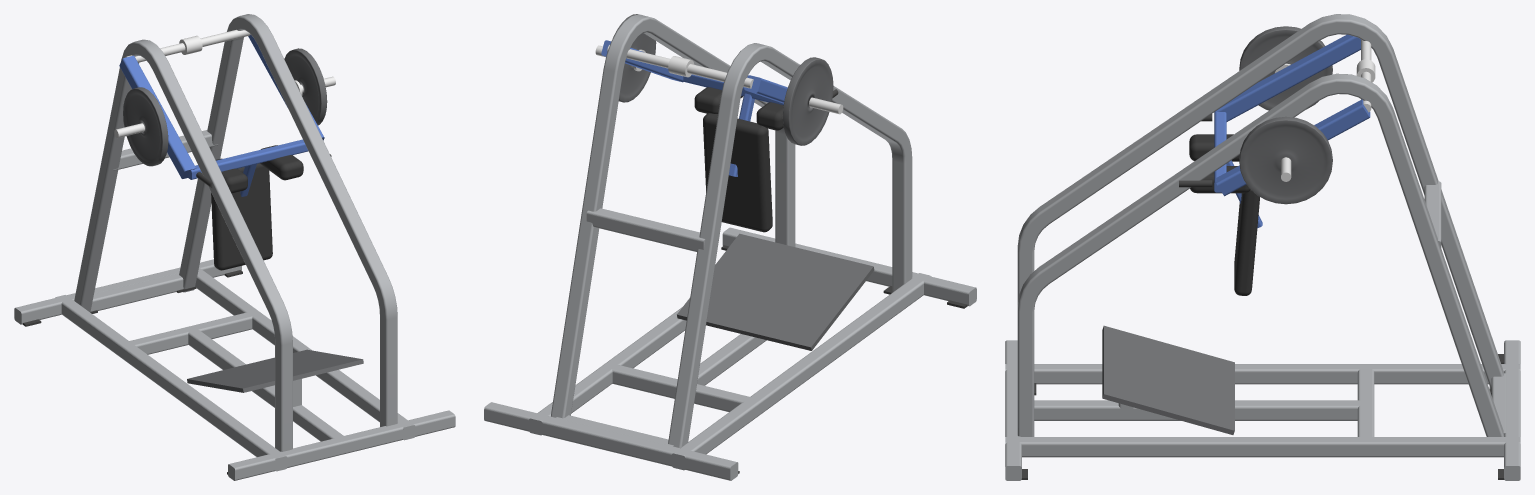
3 renders of one model, left to right at view 1: azimuth 30°, elevation 25°; view 2: azimuth 150°, elevation 25°; view 3: azimuth 270°, elevation 25°, orthographic. The views are drawn at different scales.
Parts seen in each view (by area): view 1: base, side_frame_left_tube, side_frame_right_tube, lever, frame, backrest_pad, foot_plate, lever_bar, shoulder_pad (×2), lever_axle, rear_crossbar; view 2: base, side_frame_left_tube, foot_plate, side_frame_right_tube, lever, backrest_pad, frame, rear_crossbar, lever_bar (×2), shoulder_pad (×2), lever_axle; view 3: base, side_frame_right_tube, side_frame_left_tube, foot_plate, lever, lever_bar (×2), backrest_pad, frame, rear_crossbar, shoulder_pad.
Boxes of the visible parts, box(x1,y1,x2,y2) form: base: box(14, 259, 455, 480); side_frame_left_tube: box(74, 39, 292, 451); side_frame_right_tube: box(179, 14, 397, 426); lever: box(123, 48, 327, 196); frame: box(90, 273, 255, 354); backrest_pad: box(211, 163, 272, 270); foot_plate: box(187, 349, 363, 392); lever_bar: box(119, 55, 196, 178); shoulder_pad (×2): box(215, 145, 303, 193); lever_axle: box(125, 29, 250, 62); rear_crossbar: box(113, 130, 217, 170); base: box(484, 227, 976, 480); side_frame_left_tube: box(668, 43, 912, 447); foot_plate: box(677, 233, 874, 350); side_frame_right_tube: box(551, 14, 795, 418); lever: box(612, 14, 833, 176); backrest_pad: box(703, 113, 772, 232); frame: box(556, 364, 754, 446); rear_crossbar: box(586, 208, 705, 251); lever_bar (×2): box(601, 40, 787, 103); shoulder_pad (×2): box(694, 87, 783, 130); lever_axle: box(607, 45, 753, 88); base: box(1005, 340, 1520, 480); side_frame_right_tube: box(1017, 73, 1504, 436); side_frame_left_tube: box(1017, 14, 1503, 388); foot_plate: box(1102, 325, 1234, 434); lever: box(1214, 26, 1332, 228); lever_bar (×2): box(1216, 34, 1370, 196); backrest_pad: box(1234, 190, 1259, 295); frame: box(1357, 369, 1506, 439); rear_crossbar: box(1424, 181, 1441, 250); shoulder_pad: box(1189, 134, 1239, 161).
Size of the model in its own units: 1.43 by 1.98 by 2.48.
